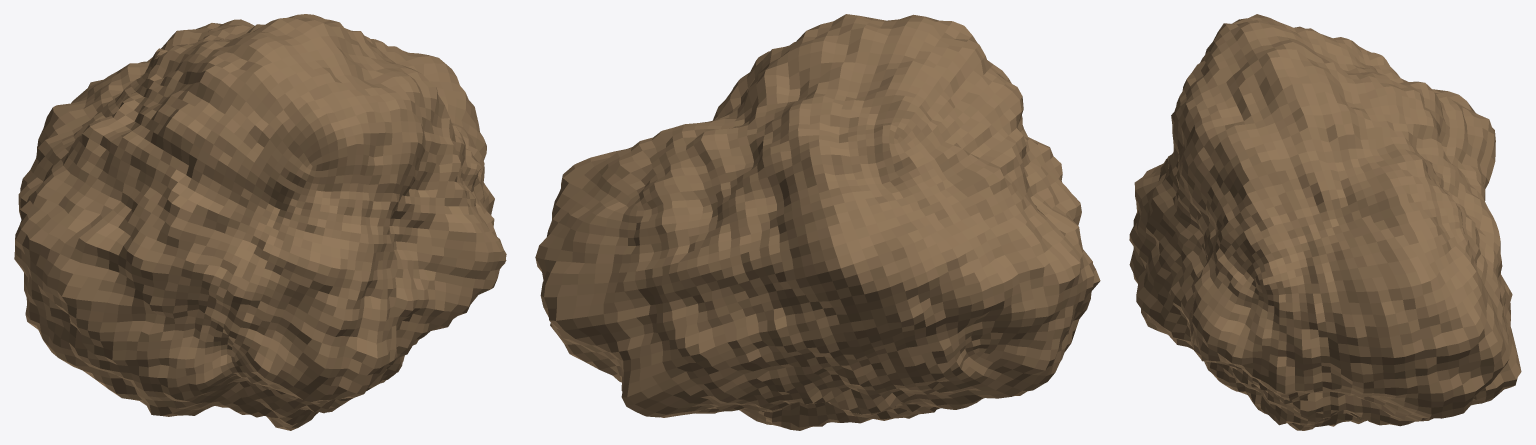
The model's file is meteor.fbx.
The picture shows the model from 3 angles, left to right: view 1: azimuth 30°, elevation 25°; view 2: azimuth 150°, elevation 25°; view 3: azimuth 270°, elevation 25°; orthographic projection. The views are drawn at different scales.
Parts seen in each view (by area): view 1: Cube; view 2: Cube; view 3: Cube.
Boxes of the visible parts, x1,y1,x2,y2 form: Cube: (14, 14, 506, 430); Cube: (535, 14, 1100, 430); Cube: (1129, 14, 1521, 430).
Bounding box in the file's own units: 1.85 × 1.48 × 1.44.
